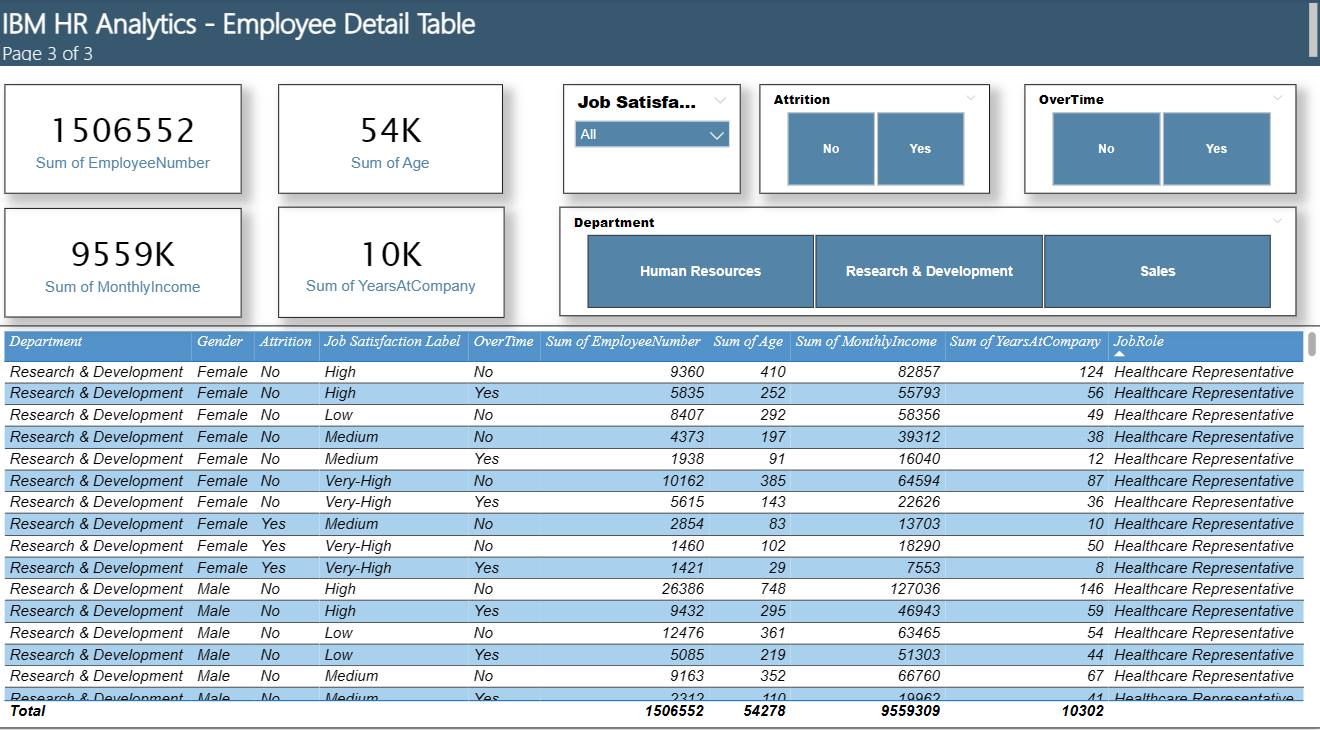

Layout of this report page (visuals, bound fields, positions):
{"tool":"powerbi","page":{"name":"Page 3","canvas":[1280,720],"ordinal":2},"visuals":[{"type":"tableEx","fields":{"Values":["WA_Fn-UseC_-HR-Employee-Attrition.Department","WA_Fn-UseC_-HR-Employee-Attrition.Gender","WA_Fn-UseC_-HR-Employee-Attrition.Attrition","WA_Fn-UseC_-HR-Employee-Attrition.Job Satisfaction Label","WA_Fn-UseC_-HR-Employee-Attrition.OverTime","Sum(WA_Fn-UseC_-HR-Employee-Attrition.EmployeeNumber)","Sum(WA_Fn-UseC_-HR-Employee-Attrition.Age)","Sum(WA_Fn-UseC_-HR-Employee-Attrition.MonthlyIncome)","Sum(WA_Fn-UseC_-HR-Employee-Attrition.YearsAtCompany)","WA_Fn-UseC_-HR-Employee-Attrition.JobRole"]},"box":[0,316.1,1280,388.5],"z":0},{"type":"textbox","box":[0,0,1279.5,65.6],"z":6000},{"type":"slicer","fields":{"Values":["WA_Fn-UseC_-HR-Employee-Attrition.Department"]},"box":[542.6,201,711.4,105.8],"z":7000},{"type":"slicer","fields":{"Values":["WA_Fn-UseC_-HR-Employee-Attrition.OverTime"]},"box":[991.4,83.1,262.6,105.8],"z":8000},{"type":"slicer","fields":{"Values":["WA_Fn-UseC_-HR-Employee-Attrition.Job Satisfaction Label"]},"box":[546.6,83.1,171.5,105.8],"z":9000},{"type":"slicer","fields":{"Values":["WA_Fn-UseC_-HR-Employee-Attrition.Attrition"]},"box":[735.5,83.1,222.4,105.8],"z":10000},{"type":"card","title":"Sum of EmployeeNumber","fields":{"Values":["Sum(WA_Fn-UseC_-HR-Employee-Attrition.EmployeeNumber)"]},"box":[6.7,83.5,229.1,105.8],"z":11000},{"type":"card","title":"Total Employees","fields":{"Values":["Sum(WA_Fn-UseC_-HR-Employee-Attrition.Age)"]},"box":[272,83.1,217,105.8],"z":12000},{"type":"card","title":"Total Employees","fields":{"Values":["Sum(WA_Fn-UseC_-HR-Employee-Attrition.YearsAtCompany)"]},"box":[272,201,218.4,107.2],"z":13000},{"type":"card","title":"Total Employees","fields":{"Values":["Sum(WA_Fn-UseC_-HR-Employee-Attrition.MonthlyIncome)"]},"box":[6.7,202.7,229.1,105.8],"z":14000}]}

Visuals, with their boxes in screenshot pixels (x1, y1, x2, y2), scaled from the page's 1280x720 canvas onto the 1320x730 screenshot:
tableEx - WA_Fn-UseC_-HR-Employee-Attrition.Department x WA_Fn-UseC_-HR-Employee-Attrition.Gender: BBox(0, 320, 1319, 714)
textbox: BBox(0, 0, 1319, 67)
slicer - WA_Fn-UseC_-HR-Employee-Attrition.Department: BBox(560, 204, 1293, 311)
slicer - WA_Fn-UseC_-HR-Employee-Attrition.OverTime: BBox(1022, 84, 1293, 192)
slicer - WA_Fn-UseC_-HR-Employee-Attrition.Job Satisfaction Label: BBox(564, 84, 741, 192)
slicer - WA_Fn-UseC_-HR-Employee-Attrition.Attrition: BBox(758, 84, 988, 192)
"Sum of EmployeeNumber" card: BBox(7, 85, 243, 192)
"Total Employees" card: BBox(280, 84, 504, 192)
"Total Employees" card: BBox(280, 204, 506, 312)
"Total Employees" card: BBox(7, 206, 243, 313)
